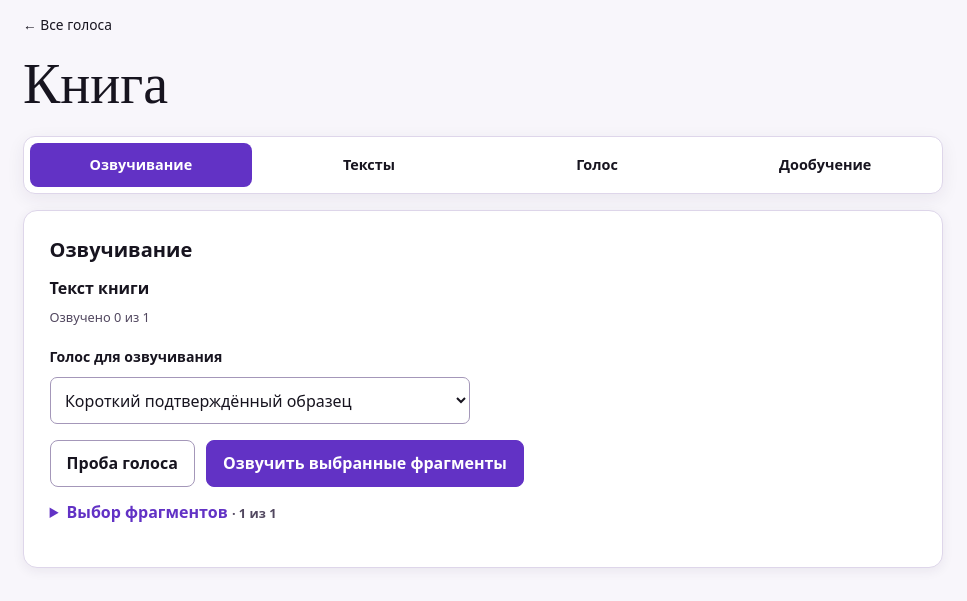
Test: Russian corpus review › lets the user start preparation without waiting for a separate engine check
Later steps or results of the test are not shown.
Check: the button "Проба голоса" is enabled, box [50, 440, 195, 487]
Check: the heading "Дообучение голоса" is not shown
What coordinates should you click on to do the following:
click the button "Дообучение"
I would click on:
 (825, 165)
Its box is [714, 143, 936, 187].
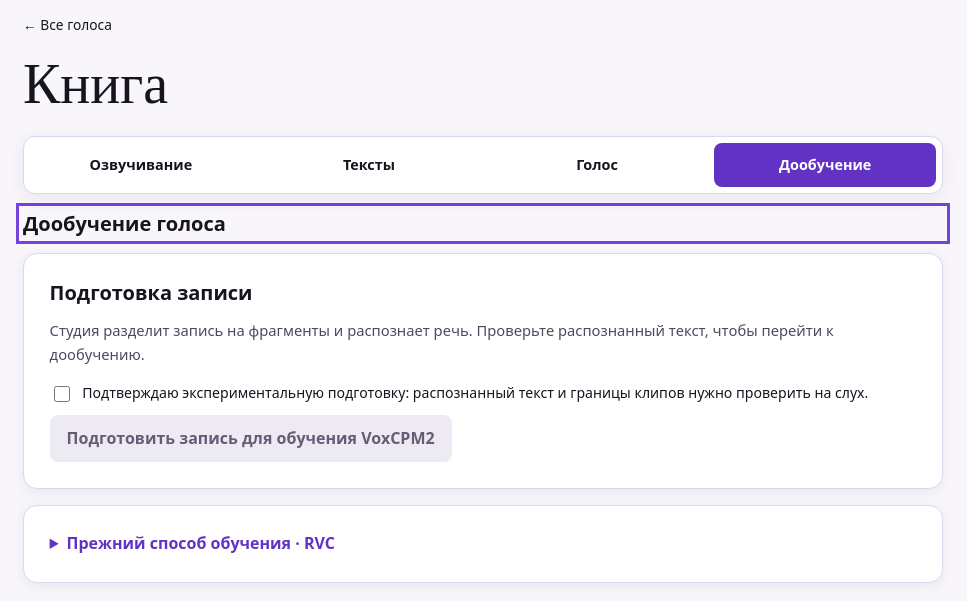
What coordinates should you click on to do the following:
click the checkbox labelled "экспериментальную подготовку"
I would click on:
 (62, 394)
Its box is [54, 386, 70, 402].
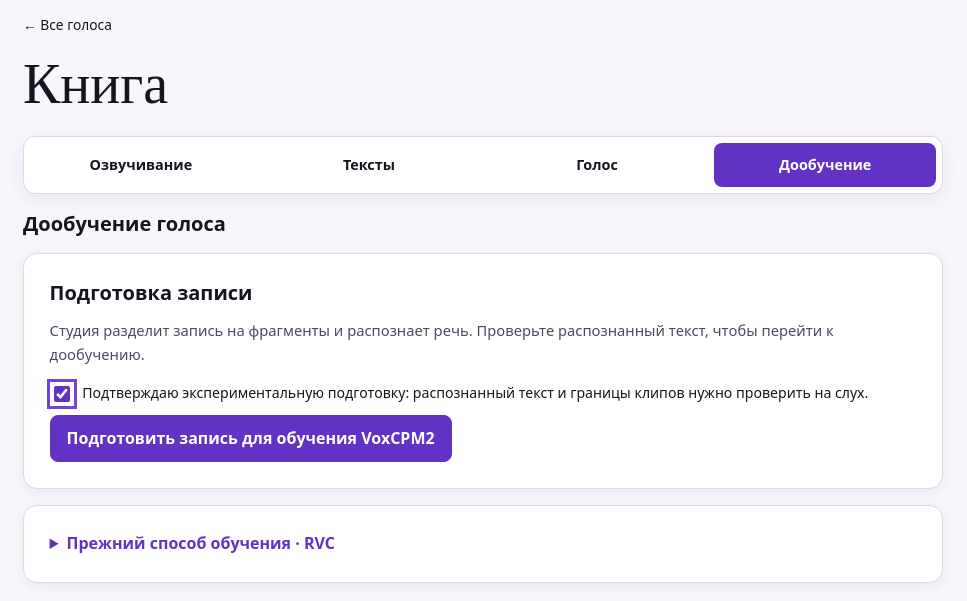
Check: the button "Подготовить запись для обучения VoxCPM2" is enabled, box [50, 415, 452, 462]
